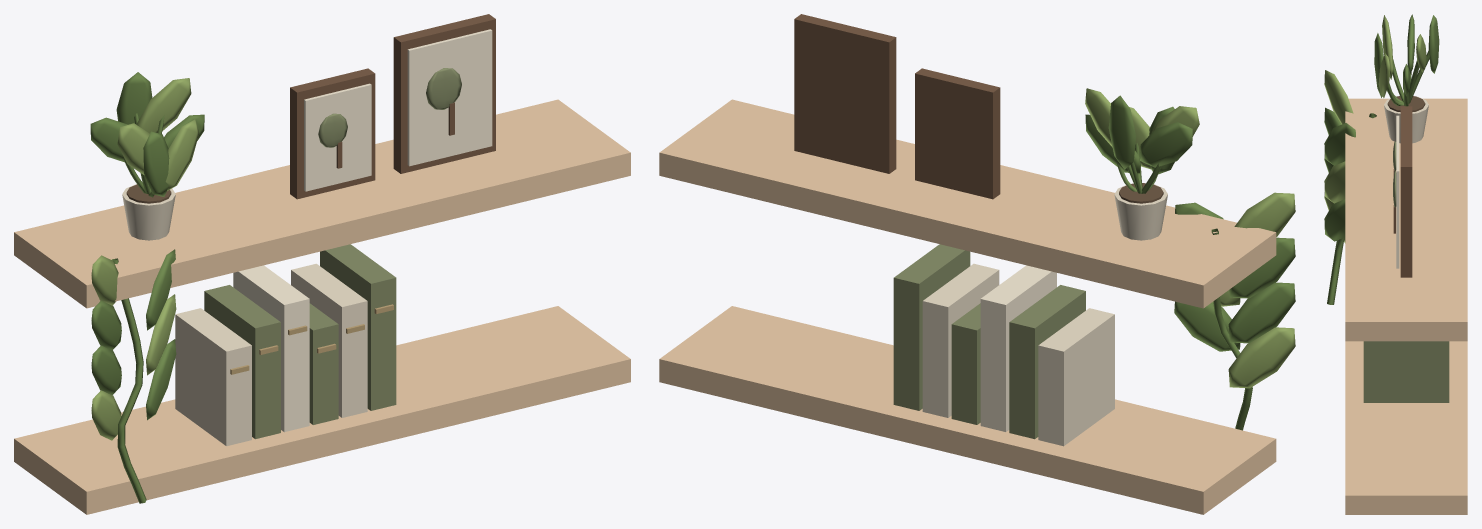
The model's file is living_ref_wall_shelf.glb.
3 views of the same model, side by side, from view 1: azimuth 30°, elevation 25°; view 2: azimuth 150°, elevation 25°; view 3: azimuth 270°, elevation 25° (orthographic). The views are drawn at different scales.
Size of the model in its own units: 1.62 by 1.07 by 0.4333.
